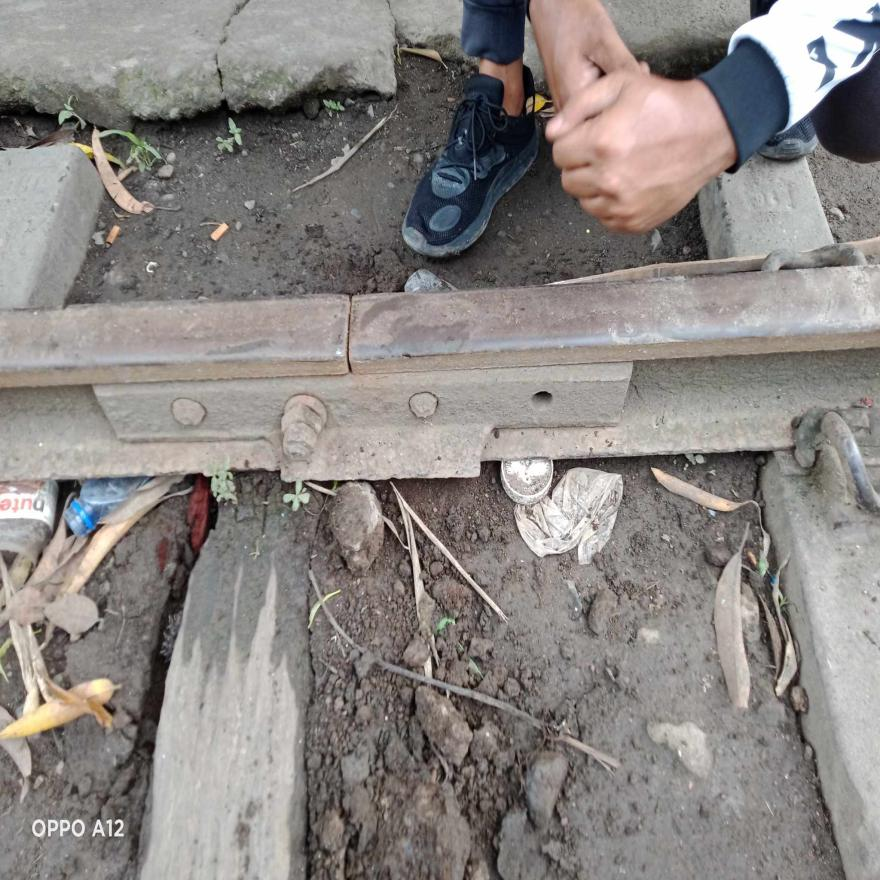railway-gap: (301, 261, 394, 403)
